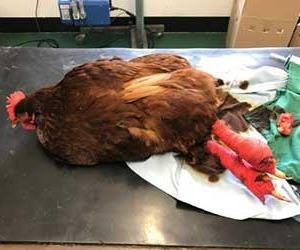AbNormal: (6, 52, 300, 208)
